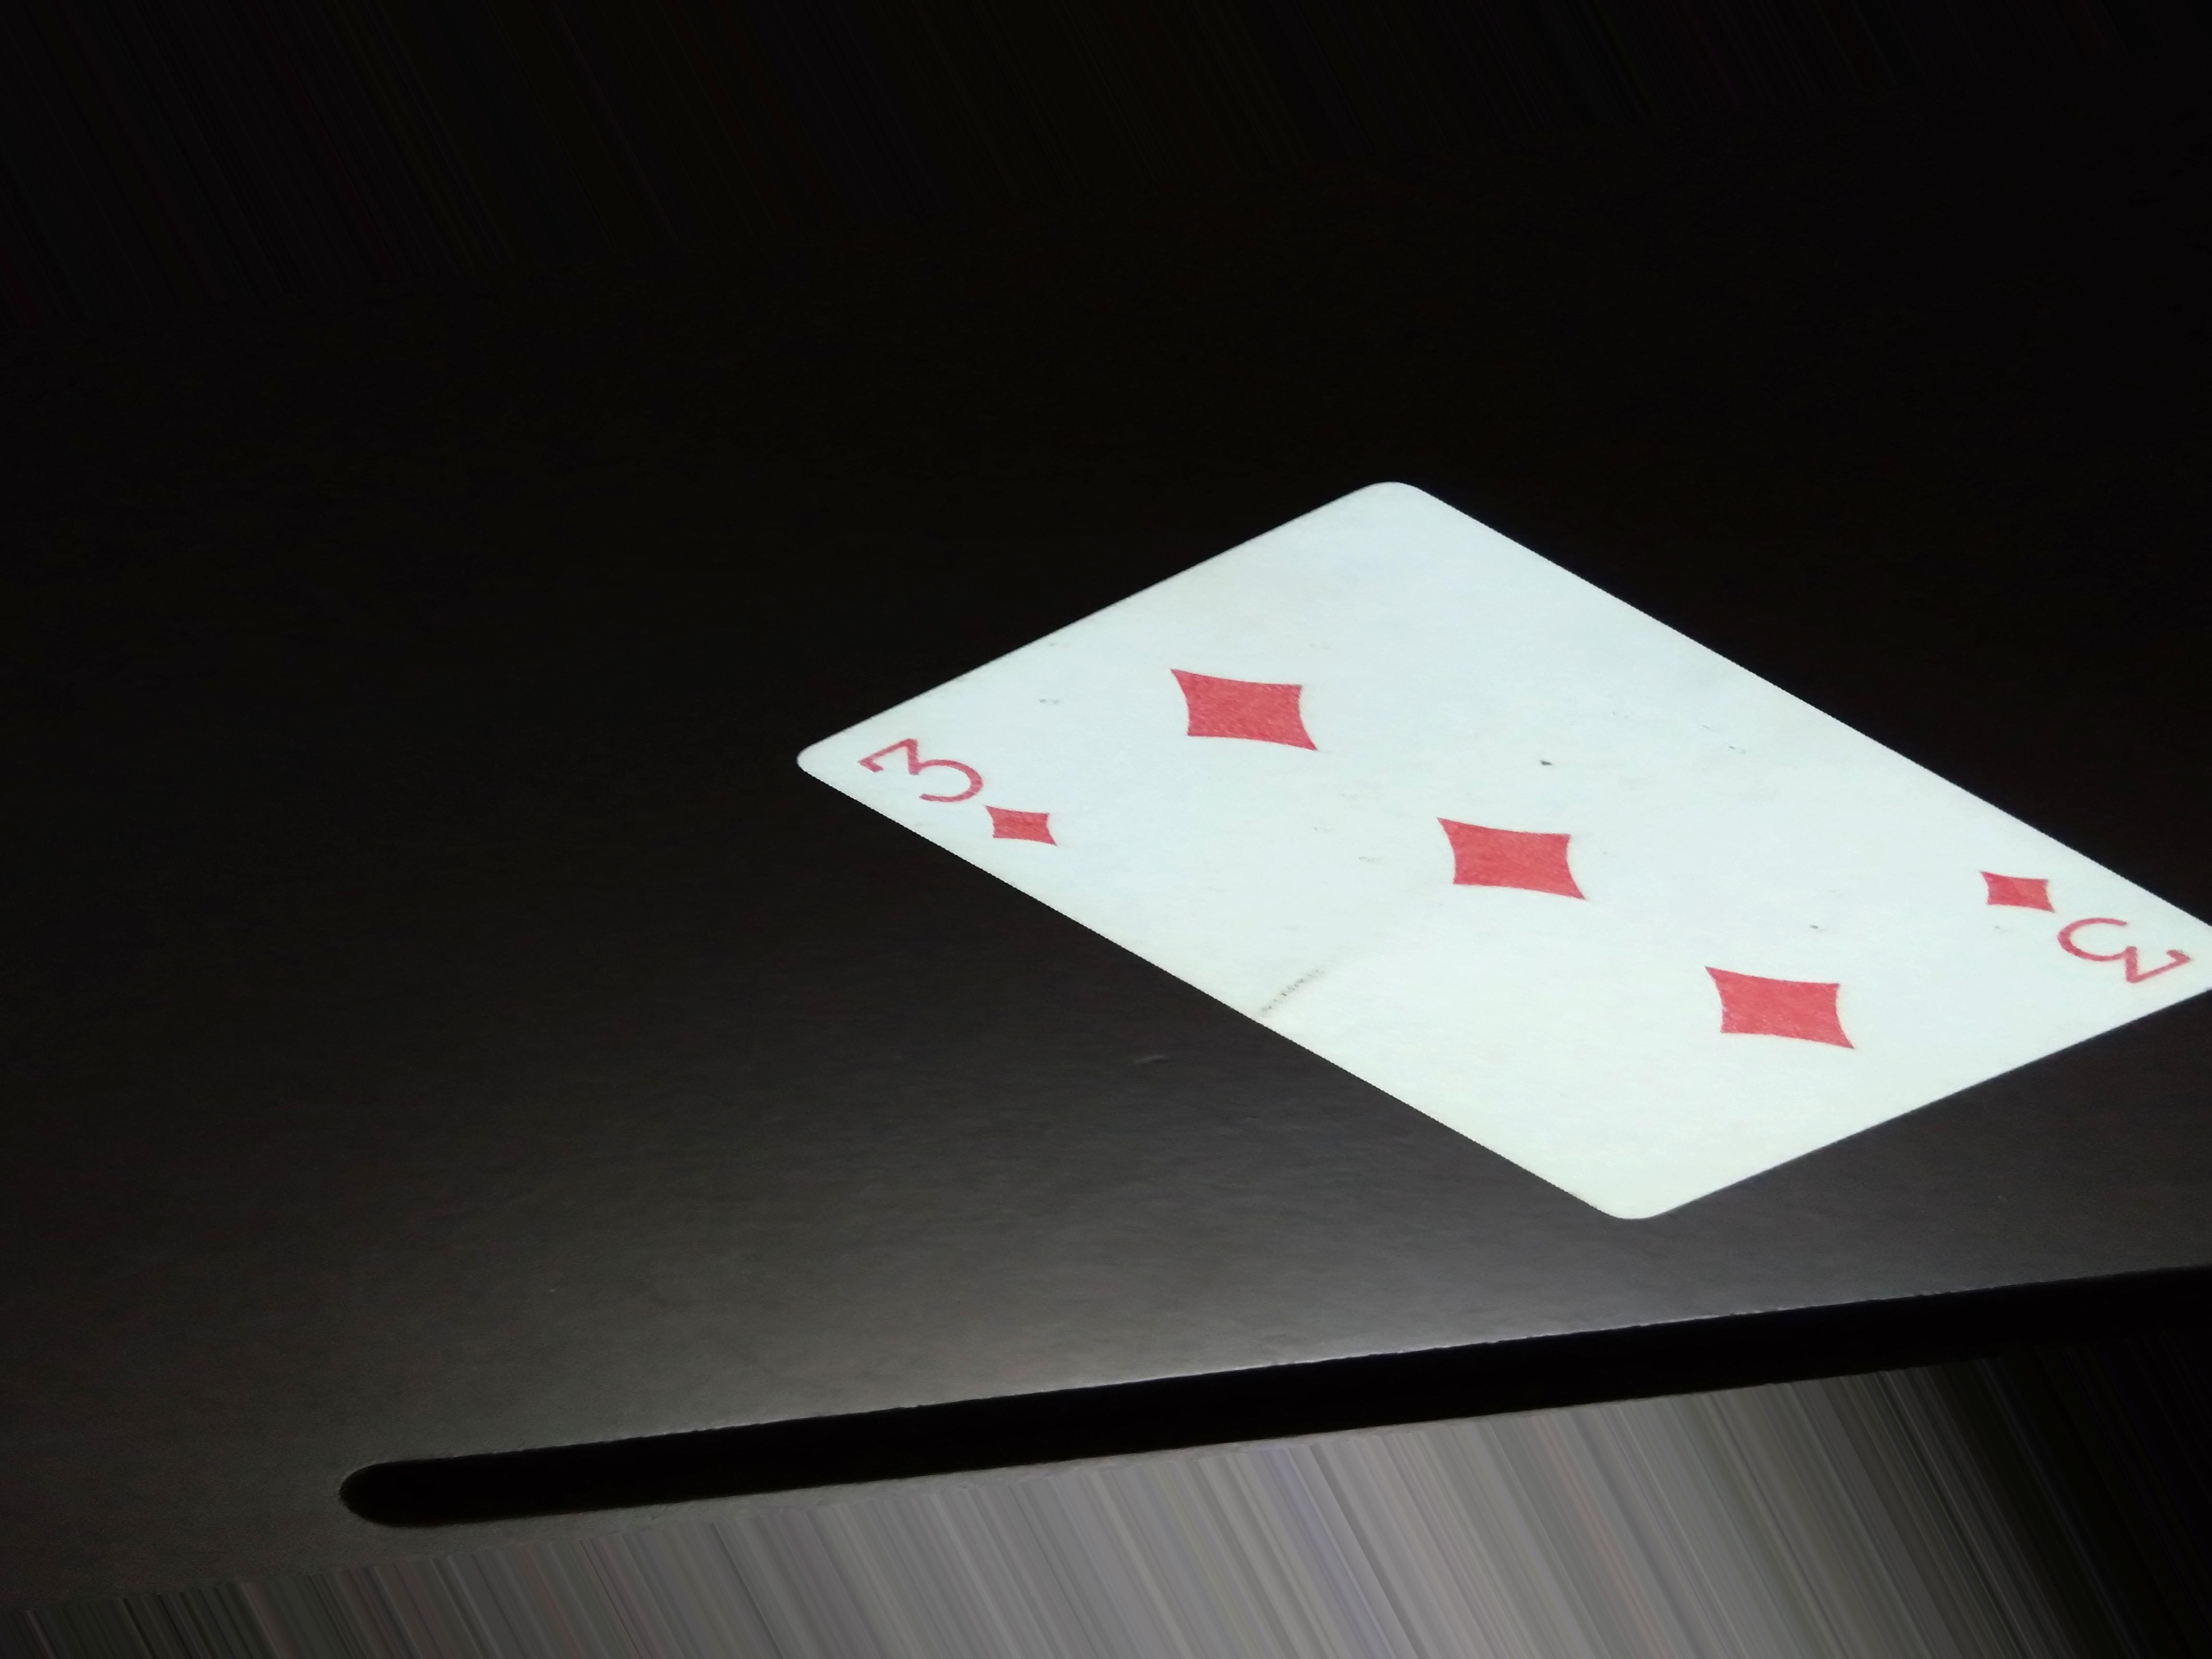3D: (829, 732, 1104, 901)
